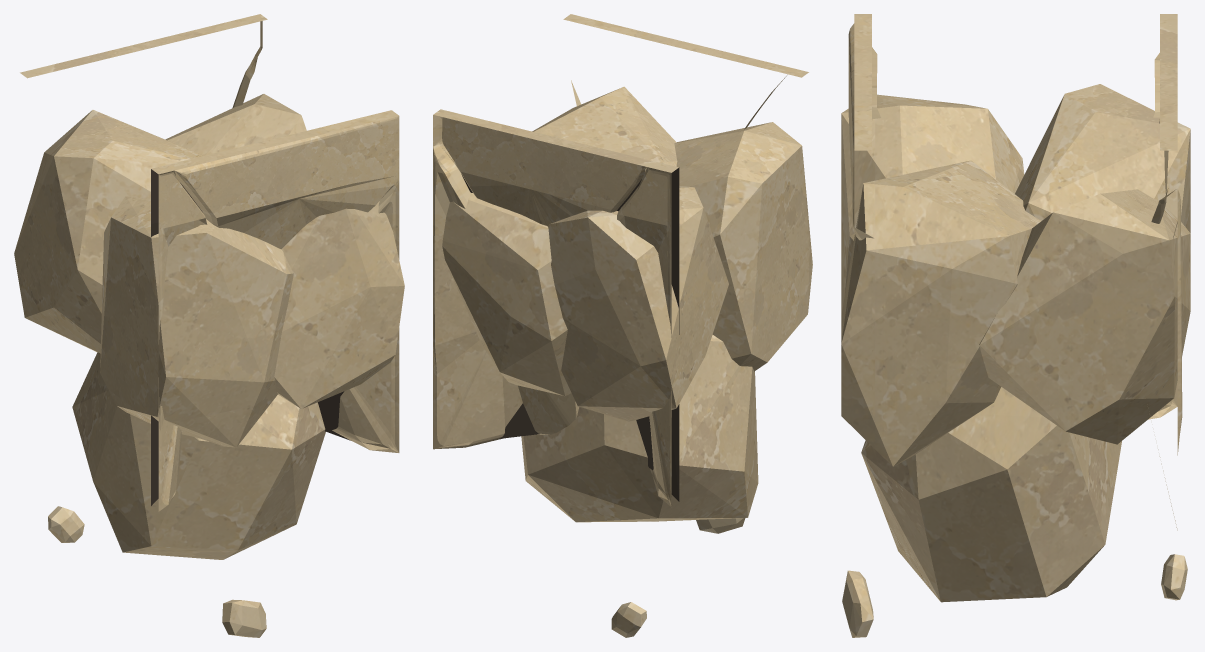
Rendered from ground_bottom_square_strip_05.glb.
3 renders of one model, left to right at view 1: azimuth 30°, elevation 25°; view 2: azimuth 150°, elevation 25°; view 3: azimuth 270°, elevation 25°, orthographic. The views are drawn at different scales.
Parts seen in each view (by area): view 1: GroundBottomSquareStrip05_Body; view 2: GroundBottomSquareStrip05_Body; view 3: GroundBottomSquareStrip05_Body.
Part boxes in pixels (x1=…): GroundBottomSquareStrip05_Body: x1=14, y1=14, x2=404, y2=637; GroundBottomSquareStrip05_Body: x1=433, y1=14, x2=812, y2=637; GroundBottomSquareStrip05_Body: x1=841, y1=14, x2=1190, y2=637.
Size of the model in its own units: 1 by 1.93 by 1.08.
Materials: 8 (7 with a texture image).
